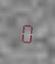zero: (19, 19, 33, 44)
